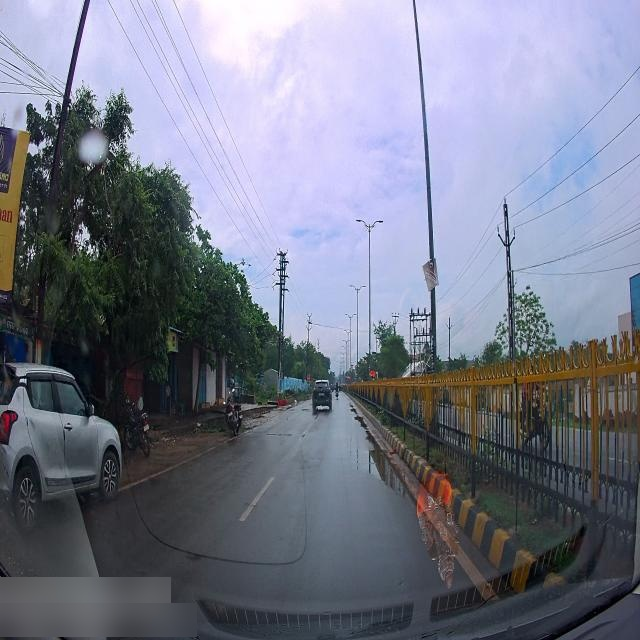pothole: (369, 448, 407, 495), (352, 410, 373, 430), (367, 431, 382, 450), (351, 404, 360, 414)
